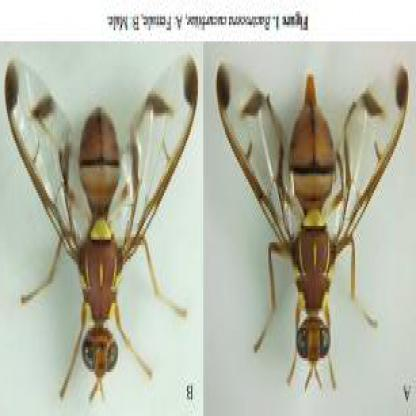fruit fly: (216, 57, 409, 394), (5, 51, 201, 382)
